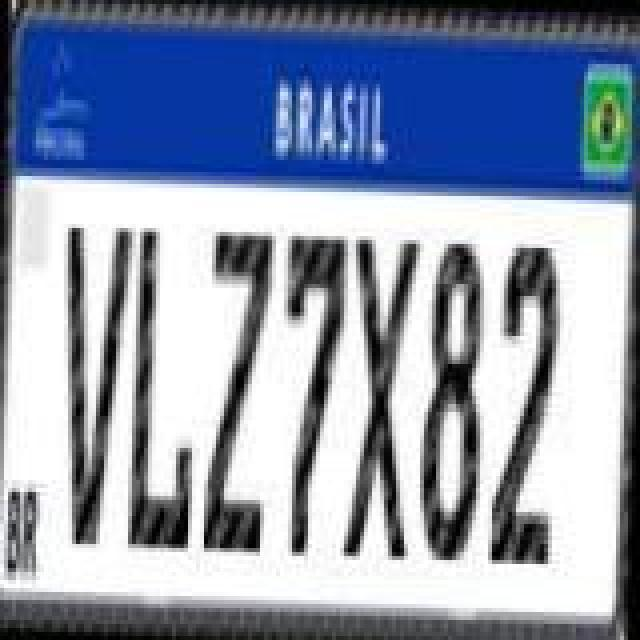2: (488, 236, 564, 572)
7: (276, 232, 352, 556)
8: (416, 232, 492, 564)
L: (128, 228, 204, 556)
V: (56, 220, 132, 548)
X: (342, 230, 422, 558)
Z: (200, 228, 276, 560)
